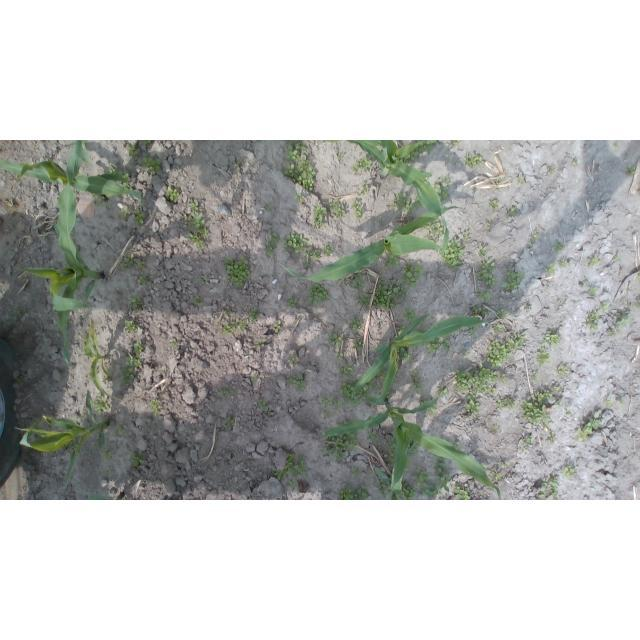Maize: (17, 140, 103, 370), (322, 396, 502, 501), (322, 140, 450, 256), (281, 204, 464, 281), (351, 315, 492, 406), (15, 389, 110, 485), (1, 159, 144, 200), (83, 318, 121, 403), (87, 492, 116, 501)
Weeds: (282, 140, 316, 192), (456, 364, 507, 396), (486, 332, 527, 368), (520, 386, 557, 424), (183, 202, 209, 249), (341, 376, 378, 408), (321, 431, 359, 462), (373, 277, 408, 310), (223, 253, 250, 287), (274, 454, 308, 480), (575, 411, 603, 442), (440, 238, 465, 269), (404, 141, 437, 164), (106, 165, 133, 191), (433, 454, 451, 493), (399, 259, 424, 287), (415, 469, 437, 498), (476, 259, 497, 287), (120, 355, 141, 383), (283, 231, 307, 254), (537, 476, 560, 500), (306, 283, 328, 308), (422, 219, 444, 244), (503, 270, 525, 292), (433, 175, 451, 201), (339, 485, 369, 500), (221, 318, 247, 335), (392, 193, 413, 214), (345, 271, 365, 292), (265, 230, 280, 257), (426, 336, 451, 352), (328, 197, 346, 219), (466, 395, 481, 421), (92, 396, 111, 416), (350, 156, 372, 173), (304, 247, 321, 269), (384, 437, 397, 465), (142, 156, 163, 173), (409, 371, 426, 392), (463, 151, 485, 167), (612, 309, 632, 326), (319, 395, 343, 409), (313, 205, 328, 227), (117, 253, 135, 271), (419, 399, 438, 416), (536, 347, 551, 368), (287, 376, 308, 391), (400, 481, 416, 500), (585, 312, 600, 331), (542, 331, 561, 346), (128, 295, 143, 314), (352, 200, 365, 221), (356, 293, 372, 310), (454, 484, 471, 500), (129, 451, 145, 467), (558, 466, 576, 480), (327, 333, 343, 348), (396, 346, 412, 361), (114, 420, 129, 436), (165, 187, 179, 204), (406, 438, 420, 455), (497, 397, 515, 410), (148, 398, 161, 416), (124, 319, 139, 334), (125, 144, 139, 160), (133, 209, 147, 225), (349, 315, 363, 331), (382, 255, 398, 269), (471, 303, 487, 317), (66, 436, 80, 451), (480, 291, 496, 304), (118, 205, 131, 220), (247, 307, 259, 323), (258, 399, 271, 413), (588, 255, 601, 268), (339, 364, 353, 376), (403, 309, 415, 323), (522, 436, 533, 451), (353, 340, 365, 353), (292, 191, 305, 203), (101, 449, 113, 462), (322, 244, 334, 257), (625, 164, 638, 176), (133, 341, 143, 356), (546, 262, 558, 274), (477, 244, 488, 257), (379, 367, 389, 381), (379, 482, 388, 497), (437, 384, 448, 396), (492, 469, 503, 481), (414, 196, 425, 208), (9, 309, 21, 320), (556, 365, 569, 375), (368, 431, 381, 441), (608, 328, 624, 336), (359, 181, 368, 195), (489, 199, 500, 210), (397, 325, 408, 336), (588, 285, 600, 295), (603, 395, 613, 407), (287, 478, 299, 488), (139, 275, 150, 285), (497, 309, 508, 319), (192, 294, 203, 304), (273, 320, 281, 333), (220, 387, 233, 395), (554, 241, 564, 251), (287, 355, 297, 365), (600, 302, 609, 313), (493, 324, 504, 333), (224, 417, 235, 426), (139, 141, 152, 148), (338, 420, 351, 427), (287, 298, 297, 307), (506, 208, 516, 217), (559, 259, 570, 267), (102, 468, 113, 476), (555, 398, 563, 408), (97, 196, 107, 204), (353, 467, 361, 477), (491, 426, 501, 434), (453, 441, 461, 451), (518, 175, 526, 185), (547, 434, 556, 442), (136, 261, 146, 268), (470, 325, 477, 335), (324, 411, 331, 421), (548, 166, 556, 174), (79, 413, 85, 423), (533, 372, 540, 380), (170, 340, 177, 348), (499, 462, 507, 469), (255, 340, 265, 345), (533, 234, 540, 241), (617, 399, 624, 406), (337, 153, 344, 160), (614, 144, 621, 151), (266, 204, 272, 212), (200, 275, 208, 281), (224, 310, 233, 315), (615, 255, 621, 262), (462, 233, 468, 240), (251, 375, 258, 381), (451, 141, 459, 146), (581, 280, 589, 285), (527, 241, 533, 247), (566, 409, 572, 415), (337, 355, 344, 360), (464, 349, 469, 356), (234, 164, 241, 169), (637, 271, 640, 281), (637, 299, 640, 309), (628, 302, 633, 308), (487, 222, 493, 227), (104, 418, 109, 423), (524, 307, 529, 311), (217, 319, 220, 322)
